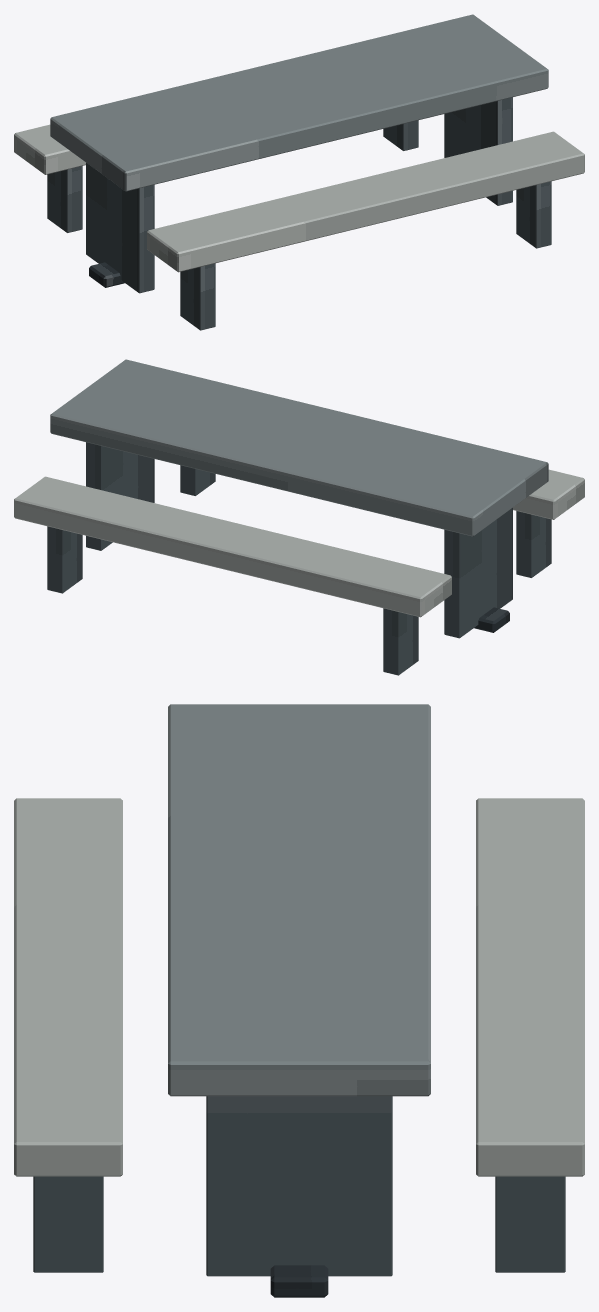
Rendered from prison_cafeteria_table.glb.
The picture shows the model from 3 angles, top to bottom: view 1: azimuth 30°, elevation 25°; view 2: azimuth 150°, elevation 25°; view 3: azimuth 270°, elevation 25°; orthographic projection. The views are drawn at different scales.
Visible parts, largest first — view 1: TableTop, BenchSeat_-0.72, TableLeg_-1.12, TableLeg_1.12, BenchLeg_1.05_-0.72, BenchLeg_-1.05_0.72, BenchLeg_-1.05_-0.72, BenchSeat_0.72, BenchLeg_1.05_0.72, FloorBolt_-1.18; view 2: TableTop, BenchSeat_0.72, TableLeg_-1.12, TableLeg_1.12, BenchLeg_1.05_0.72, BenchLeg_-1.05_0.72, BenchLeg_-1.05_-0.72, BenchSeat_-0.72, BenchLeg_1.05_-0.72, FloorBolt_-1.18; view 3: TableTop, BenchSeat_0.72, BenchSeat_-0.72, TableLeg_1.12, BenchLeg_1.05_0.72, BenchLeg_1.05_-0.72, FloorBolt_1.18.
Boxes of the visible parts, bbox=[...] form: TableTop: bbox=[50, 14, 548, 191]; BenchSeat_-0.72: bbox=[147, 131, 584, 272]; TableLeg_-1.12: bbox=[86, 163, 154, 293]; TableLeg_1.12: bbox=[444, 97, 512, 205]; BenchLeg_1.05_-0.72: bbox=[516, 181, 551, 248]; BenchLeg_-1.05_0.72: bbox=[47, 166, 82, 232]; BenchLeg_-1.05_-0.72: bbox=[180, 263, 215, 330]; BenchSeat_0.72: bbox=[14, 124, 85, 174]; BenchLeg_1.05_0.72: bbox=[383, 120, 418, 150]; FloorBolt_-1.18: bbox=[89, 262, 124, 287]; TableTop: bbox=[50, 359, 548, 536]; BenchSeat_0.72: bbox=[14, 476, 451, 617]; TableLeg_-1.12: bbox=[444, 508, 512, 638]; TableLeg_1.12: bbox=[86, 442, 154, 550]; BenchLeg_1.05_0.72: bbox=[47, 526, 82, 593]; BenchLeg_-1.05_0.72: bbox=[383, 608, 418, 675]; BenchLeg_-1.05_-0.72: bbox=[516, 511, 551, 577]; BenchSeat_-0.72: bbox=[513, 469, 584, 519]; BenchLeg_1.05_-0.72: bbox=[180, 465, 215, 495]; FloorBolt_-1.18: bbox=[474, 607, 509, 632]; TableTop: bbox=[168, 704, 430, 1096]; BenchSeat_0.72: bbox=[476, 798, 584, 1176]; BenchSeat_-0.72: bbox=[14, 798, 122, 1176]; TableLeg_1.12: bbox=[206, 1096, 392, 1276]; BenchLeg_1.05_0.72: bbox=[495, 1176, 565, 1272]; BenchLeg_1.05_-0.72: bbox=[33, 1176, 103, 1272]; FloorBolt_1.18: bbox=[270, 1265, 328, 1297].
Bounding box in the file's own units: 2.65 × 0.84 × 1.78.
Materials: 1 (1 with a texture image).
